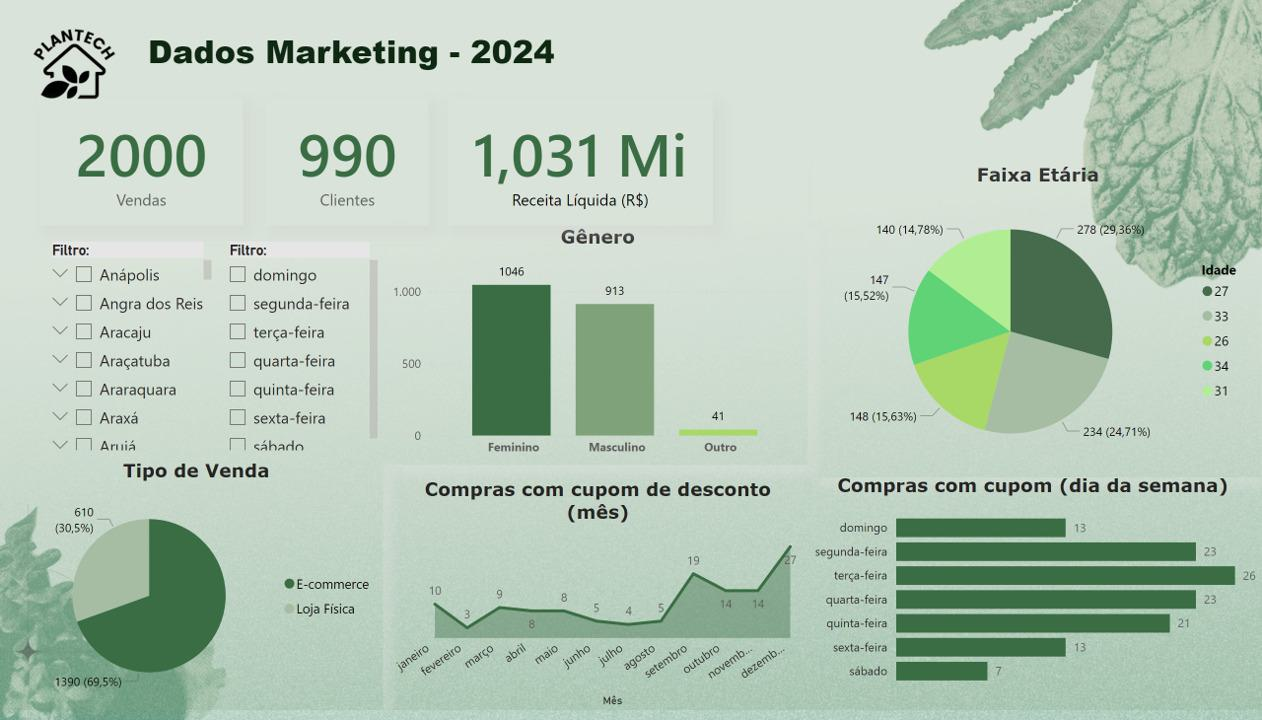

The page's visual inventory and layout, read from the dashboard file:
{"tool":"powerbi","page":{"name":"Dados Marketing 2024","canvas":[1280,720],"ordinal":2},"visuals":[{"type":"pieChart","title":"Faixa Etária","fields":{"Category":["Clientes.Idade"],"Y":["CountNonNull(Clientes.Qtd de Venda)"]},"box":[826.5,164.6,453.5,319.2],"z":0},{"type":"textbox","box":[144.8,23.9,488.1,95.5],"z":1000},{"type":"image","box":[0,0,145,131.5],"z":2000},{"type":"pieChart","title":"Tipo de Venda","fields":{"Category":["Clientes (3).Tipo de Venda"],"Y":["CountNonNull(Clientes (3).Qtd de Venda)"]},"box":[10,465,378.3,255],"z":3000},{"type":"columnChart","title":"Gênero","fields":{"Category":["Clientes (3).Gênero"],"Y":["CountNonNull(Clientes.Qtd de Venda)"]},"box":[393.1,228.5,426.7,243.6],"z":4000},{"type":"card","fields":{"Values":["CountNonNull(Clientes.Qtd de Venda)"]},"box":[40.3,99.1,206.6,129.3],"z":5000},{"type":"card","fields":{"Values":["Sum(Clientes.Valor Líquido)"]},"box":[453.5,99.1,268.8,129.3],"z":6000},{"type":"card","fields":{"Values":["Count(Clientes.Nome Cliente)"]},"box":[270.4,99.1,164.6,129.3],"z":7000},{"type":"slicer","fields":{"Values":["Clientes.Cidade","Clientes.Gênero","Clientes.Idade","Clientes.Produto"]},"box":[40.3,240.2,179.7,221.7],"z":8000},{"type":"areaChart","title":"Compras com cupom de desconto (mês)","fields":{"Category":["TabelaData.Date.Variation.Hierarquia de datas.Mês"],"Y":["Clientes.ComprasComCupom"]},"box":[393.1,483.8,426.7,236.9],"z":9000},{"type":"barChart","title":"Compras com cupom (dia da semana)","fields":{"Category":["TabelaData.DiaDaSemana"],"Y":["Clientes.ComprasComCupom"]},"box":[814.7,480.4,465.3,225.1],"z":10000},{"type":"slicer","fields":{"Values":["TabelaData.DiaDaSemana"]},"box":[220.1,240.2,168,221.7],"z":10001}]}

Visuals, with their boxes in screenshot pixels (x1, y1, x2, y2), scaled from the page's 1280x720 canvas onto the 1262x720 screenshot:
"Faixa Etária" pieChart: (815,165,1261,484)
textbox: (143,24,624,119)
image: (0,0,143,132)
"Tipo de Venda" pieChart: (10,465,383,719)
"Gênero" columnChart: (388,228,808,472)
card - CountNonNull(Clientes.Qtd de Venda): (40,99,243,228)
card - Sum(Clientes.Valor Líquido): (447,99,712,228)
card - Count(Clientes.Nome Cliente): (267,99,429,228)
slicer - Clientes.Cidade x Clientes.Gênero: (40,240,217,462)
"Compras com cupom de desconto (mês)" areaChart: (388,484,808,719)
"Compras com cupom (dia da semana)" barChart: (803,480,1261,706)
slicer - TabelaData.DiaDaSemana: (217,240,383,462)
